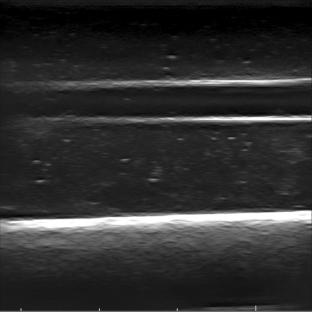vessel: (31, 77, 308, 125)
